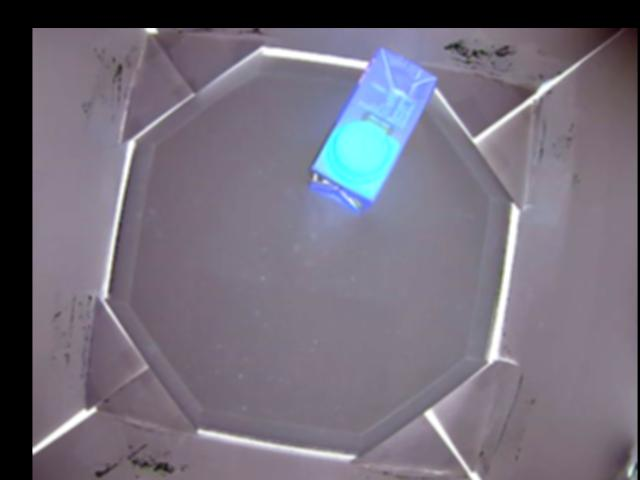Bottle: (306, 46, 438, 212)
